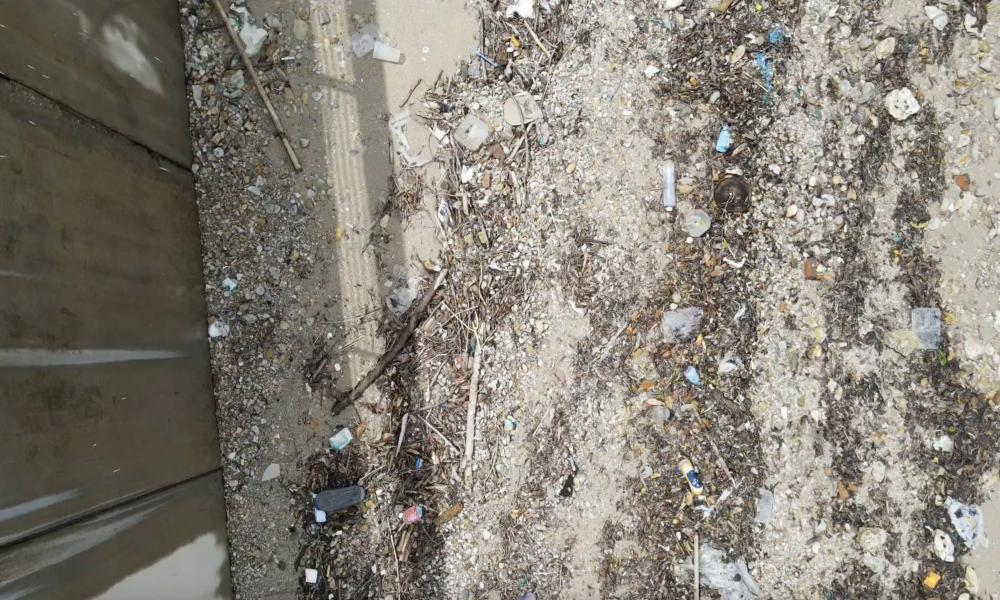plastic bottle: (676, 449, 703, 497), (662, 159, 676, 213)
